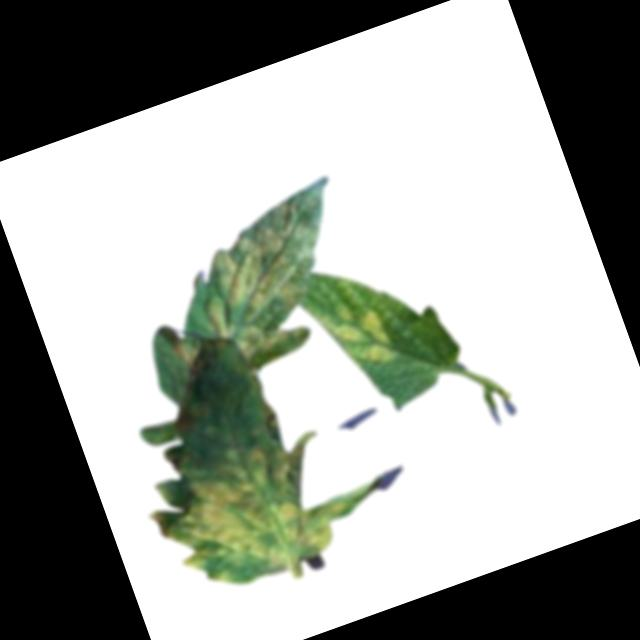Leaf_Mold: (135, 420, 357, 607), (185, 208, 333, 340), (316, 292, 398, 380), (232, 306, 310, 365), (170, 335, 199, 367)
